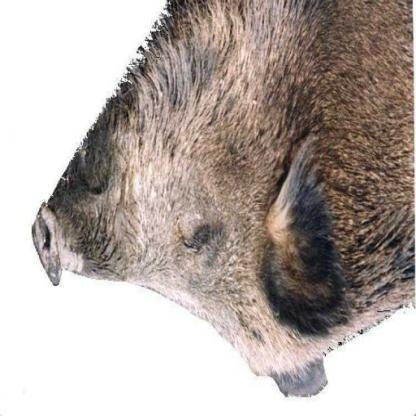boar: (12, 6, 415, 391)
